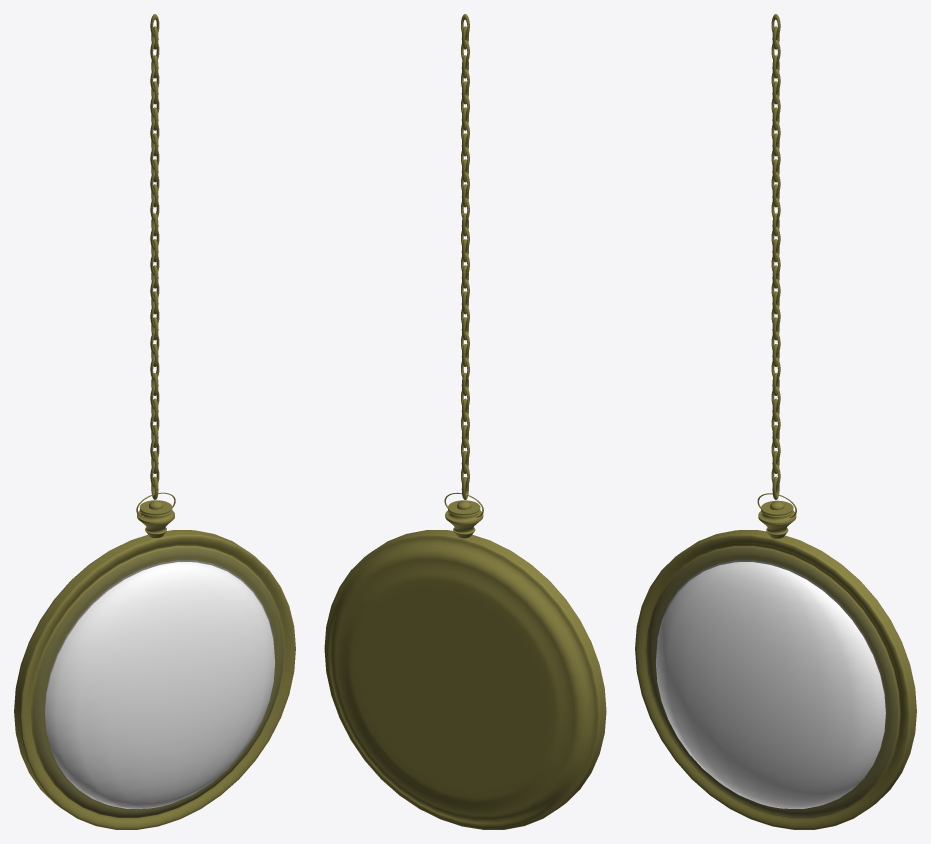
The model's file is TikTok.fbx.
3 views of the same model, side by side, from view 1: azimuth 30°, elevation 25°; view 2: azimuth 150°, elevation 25°; view 3: azimuth 330°, elevation 25° (orthographic).
Parts seen in each view (by area): view 1: Gress, TikTok; view 2: TikTok; view 3: Gress, TikTok.
Part boxes in pixels (x1,y1,x2,y2): Gress: (45,562,275,808); TikTok: (14,14,295,829); TikTok: (324,14,606,829); Gress: (655,562,885,808); TikTok: (635,14,916,829).
Bounding box in the file's own units: 39.51 × 111 × 9.14.
